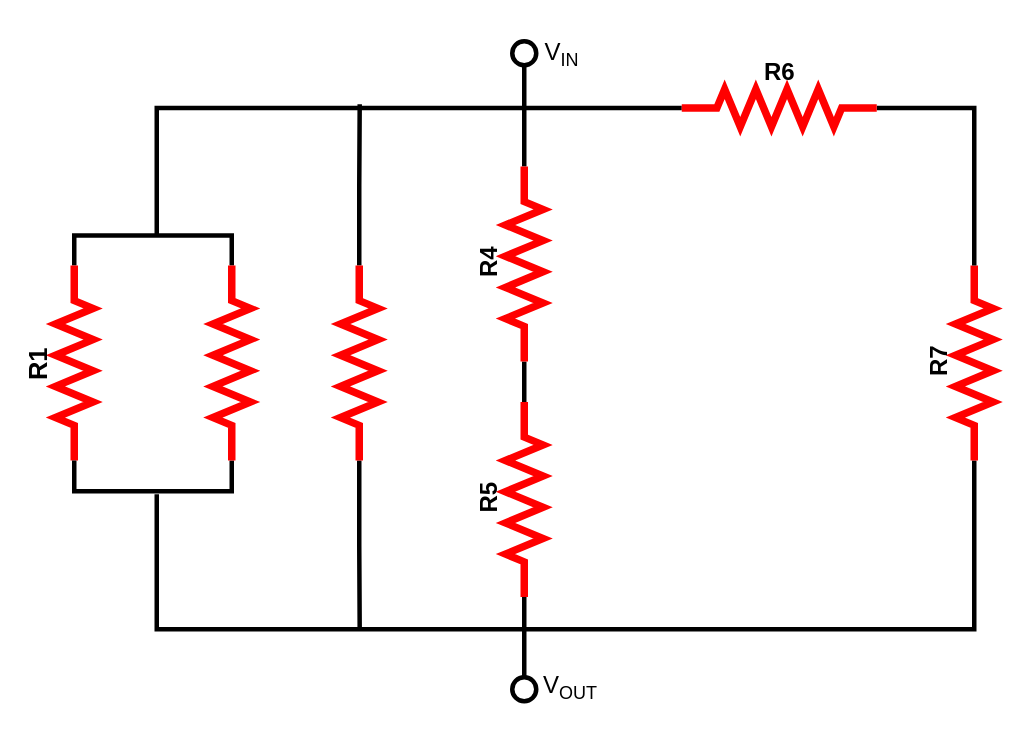
This 1023x744 diagram has some shape labels left out. Here are the shapes that lost their labels. From the top down, the centre of each, then its label:
the point at 231,362: R2
the point at 358,362: R3
